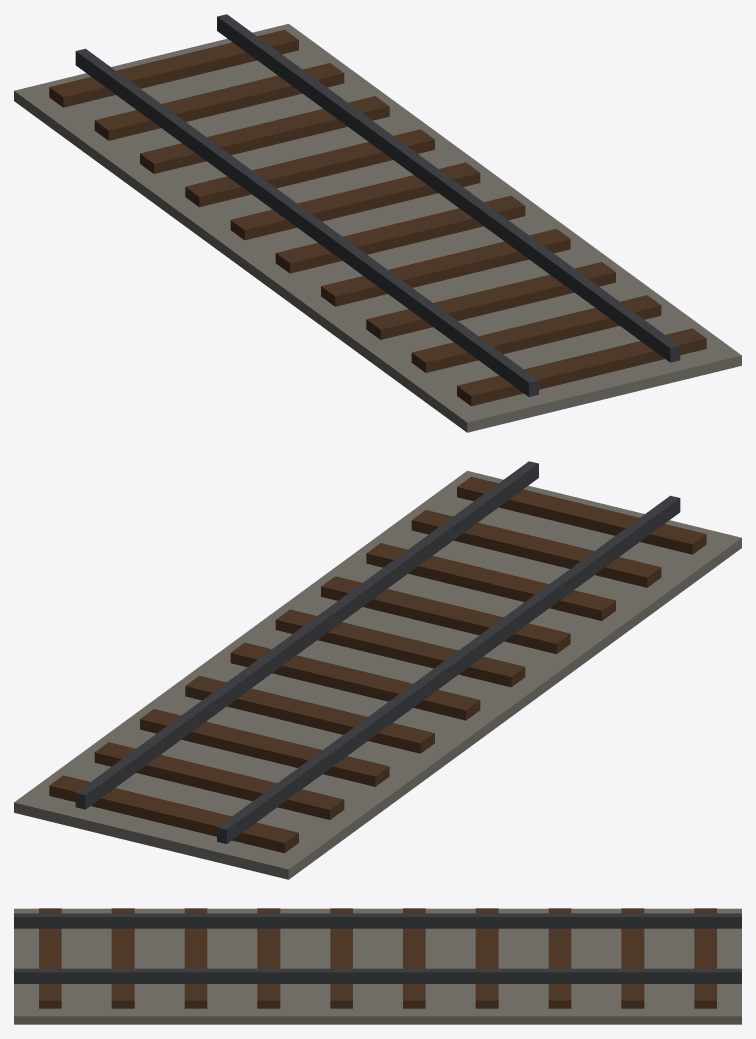
File: road_rail_v_straight_lod1.glb
The picture shows the model from 3 angles, top to bottom: view 1: azimuth 30°, elevation 25°; view 2: azimuth 150°, elevation 25°; view 3: azimuth 270°, elevation 25°; orthographic projection. The views are drawn at different scales.
Visible parts, largest first — view 1: body; view 2: body; view 3: body.
Part boxes in pixels (bbox=[...]): body: bbox=[14, 14, 741, 432]; body: bbox=[14, 461, 741, 879]; body: bbox=[14, 908, 741, 1024].
Bounding box in the file's own units: 2.8 × 0.34 × 8.
